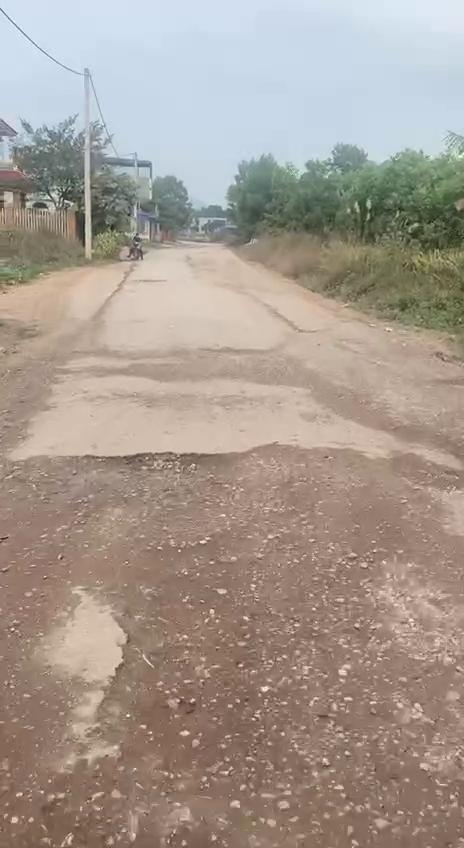pothole: (96, 570, 256, 776), (87, 447, 247, 508), (385, 449, 463, 500)
